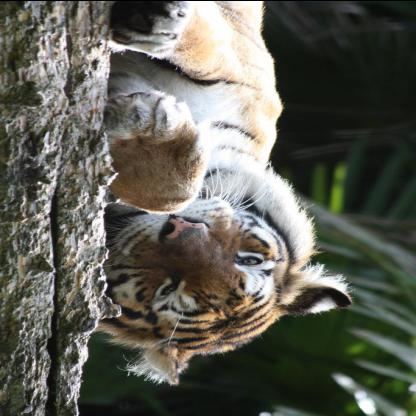tiger: (86, 199, 344, 385)
